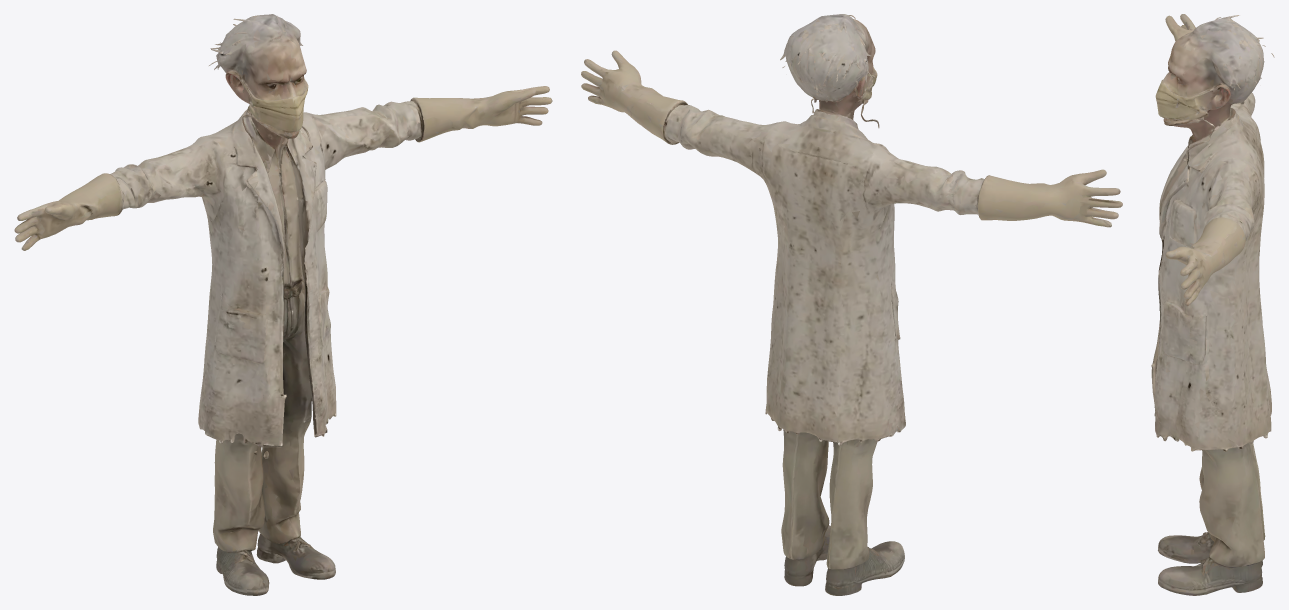
The model's file is Z03_DoctorKhilauna.glb.
3 views of the same model, side by side, from view 1: azimuth 30°, elevation 25°; view 2: azimuth 150°, elevation 25°; view 3: azimuth 270°, elevation 25° (orthographic).
Visible parts, largest first — view 1: geometry_0; view 2: geometry_0; view 3: geometry_0.
Part boxes in pixels (x1,y1,x2,y2): geometry_0: [14, 14, 552, 595]; geometry_0: [581, 14, 1122, 595]; geometry_0: [1151, 14, 1274, 595].
Bounding box in the file's own units: 1.9 × 1.87 × 0.3784.
1 material, 1 textured.
